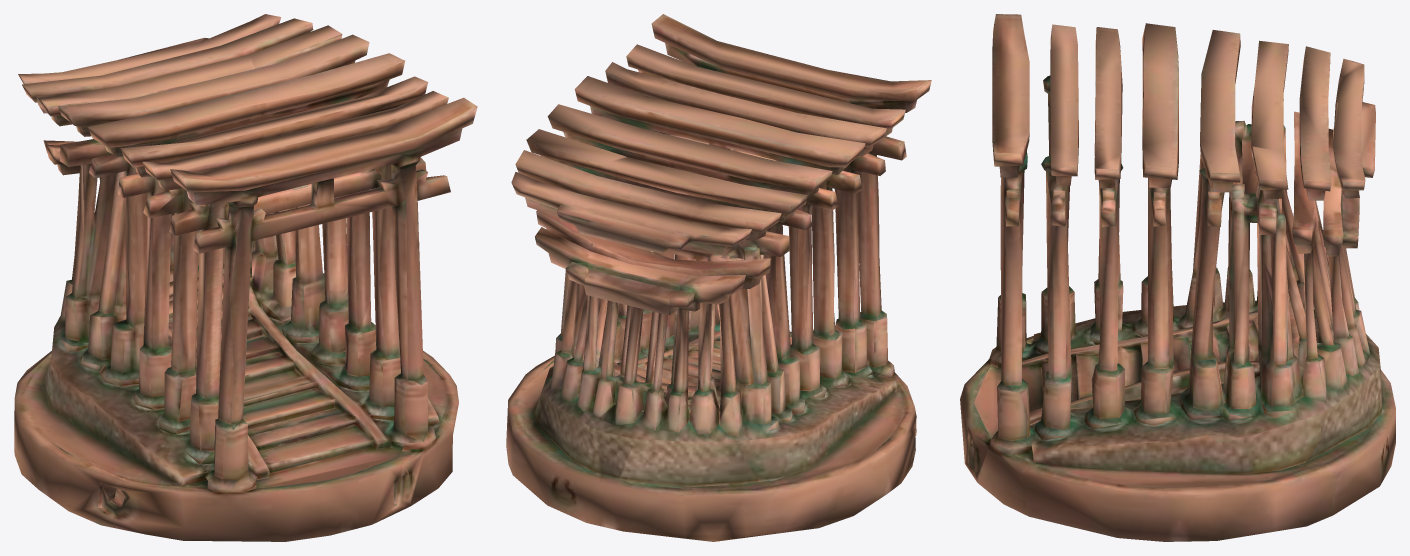
Rendered from fushimi_inari_bronze.glb.
3 renders of one model, left to right at view 1: azimuth 30°, elevation 25°; view 2: azimuth 150°, elevation 25°; view 3: azimuth 270°, elevation 25°, orthographic. The views are drawn at different scales.
Visible parts, largest first — view 1: Mesh_0; view 2: Mesh_0; view 3: Mesh_0.
Part boxes in pixels (x1,y1,x2,y2): Mesh_0: (14, 14, 477, 541); Mesh_0: (506, 14, 931, 541); Mesh_0: (960, 14, 1395, 541).
Size of the model in its own units: 1.91 by 1.78 by 1.9.
Materials: 1 (1 with a texture image).
